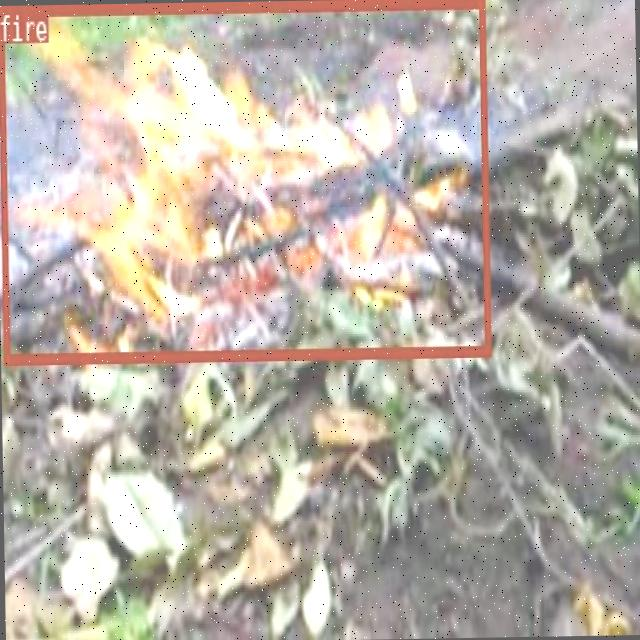fire: (0, 0, 489, 363)
